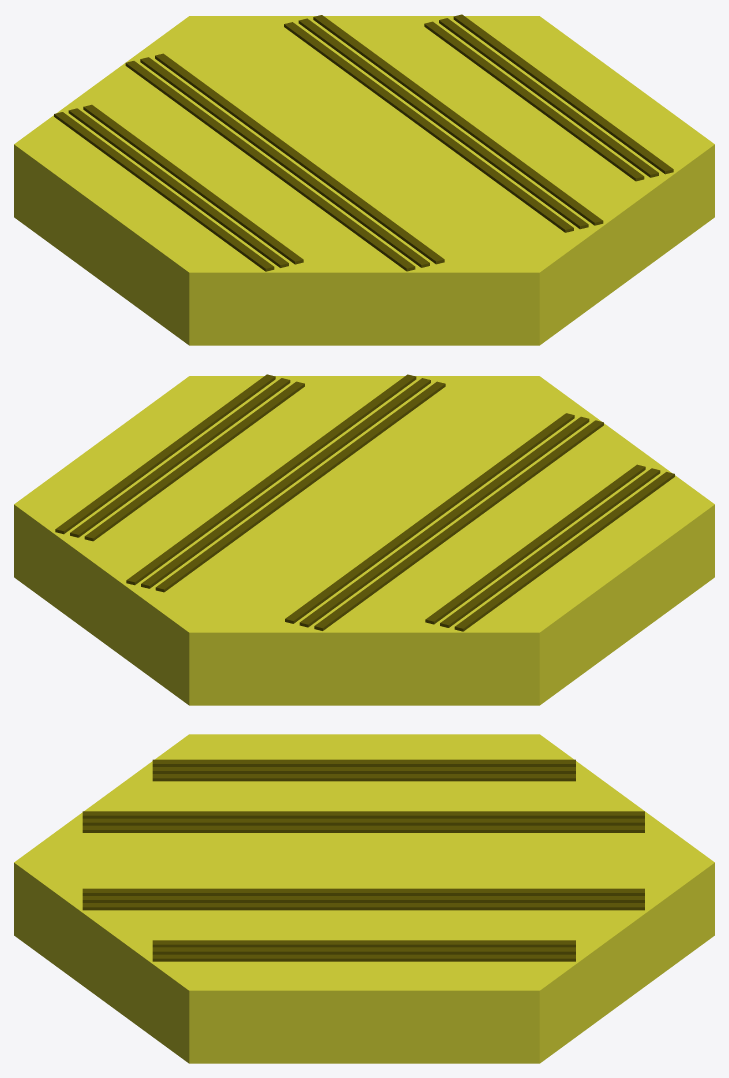
The model's file is Tuile_Champ_N1.fbx.
The picture shows the model from 3 angles, top to bottom: view 1: azimuth 30°, elevation 25°; view 2: azimuth 150°, elevation 25°; view 3: azimuth 270°, elevation 25°; orthographic projection.
Visible parts, largest first — view 1: Circle, niv1; view 2: Circle, niv1; view 3: Circle, niv1.
Part boxes in pixels (x1,y1,x2,y2): Circle: (14,16,714,345); niv1: (54,14,673,271); Circle: (14,376,714,705); niv1: (55,374,674,631); Circle: (14,734,714,1063); niv1: (82,759,644,961).
Bounding box in the file's own units: 107 × 14.78 × 124.
